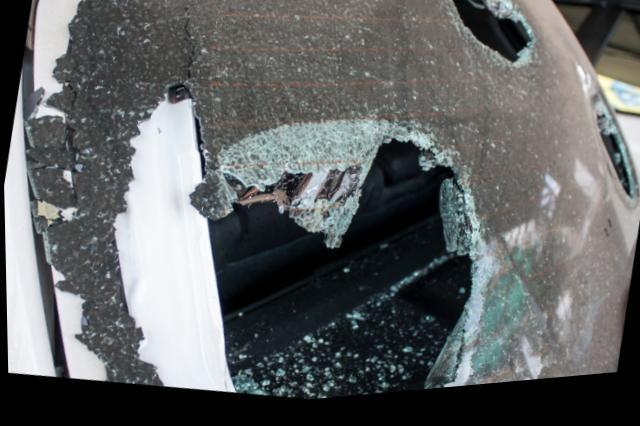glass shatter: (26, 0, 640, 405)
